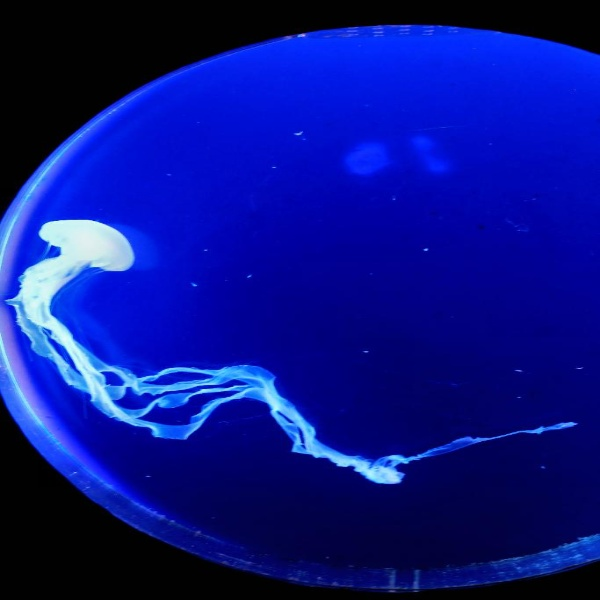Jellyfish: (59, 192, 600, 557)
